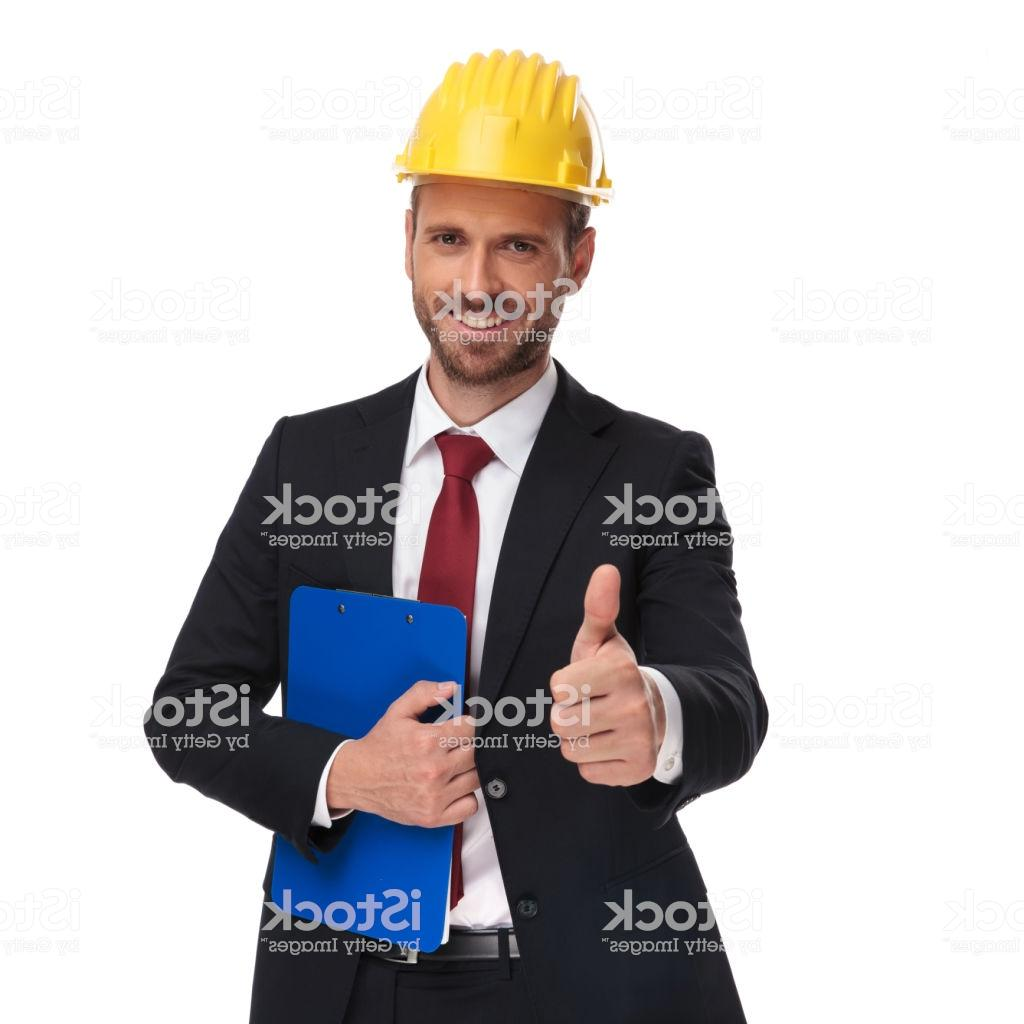thumbsup: (550, 561, 662, 790)
